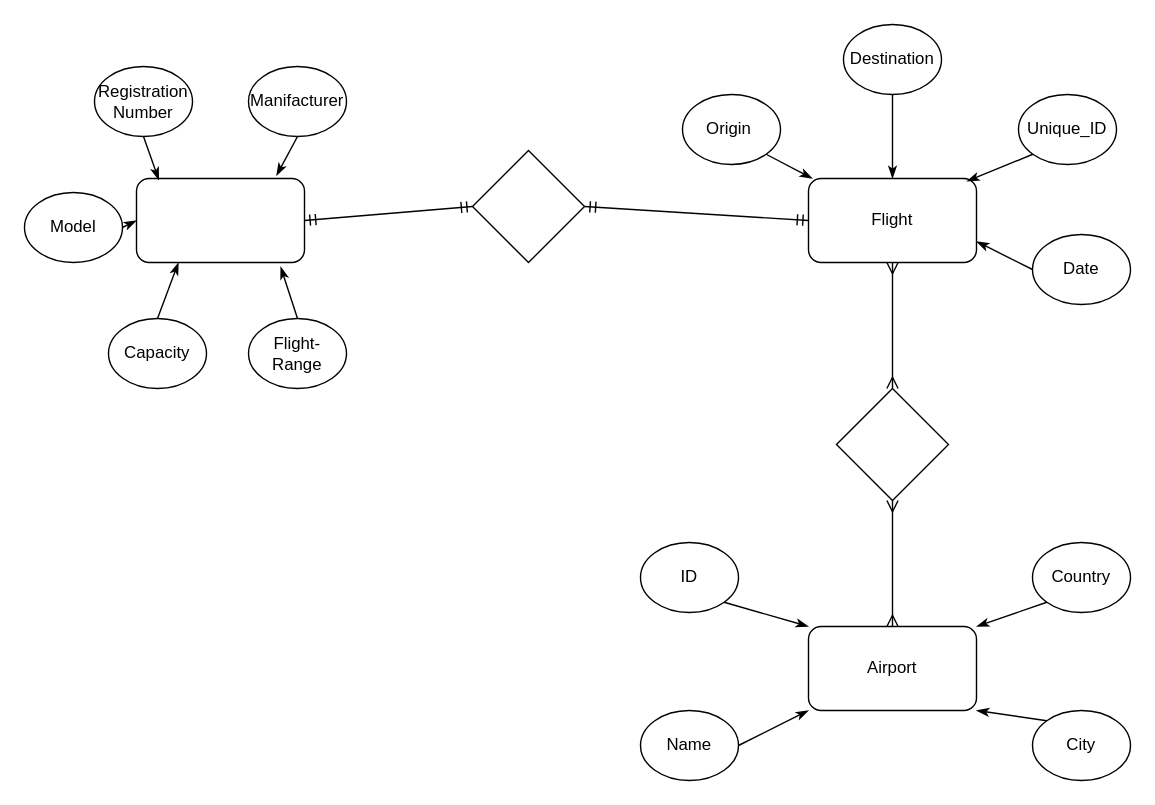
Image size: 1155x805. Some labels were removed from this diagram. Here are the shapes that lost their labels. From the top down, the centre of each, then its label:
At point 219,219: "Plane".
At point 527,205: "Flies".
At point 891,443: "to".
